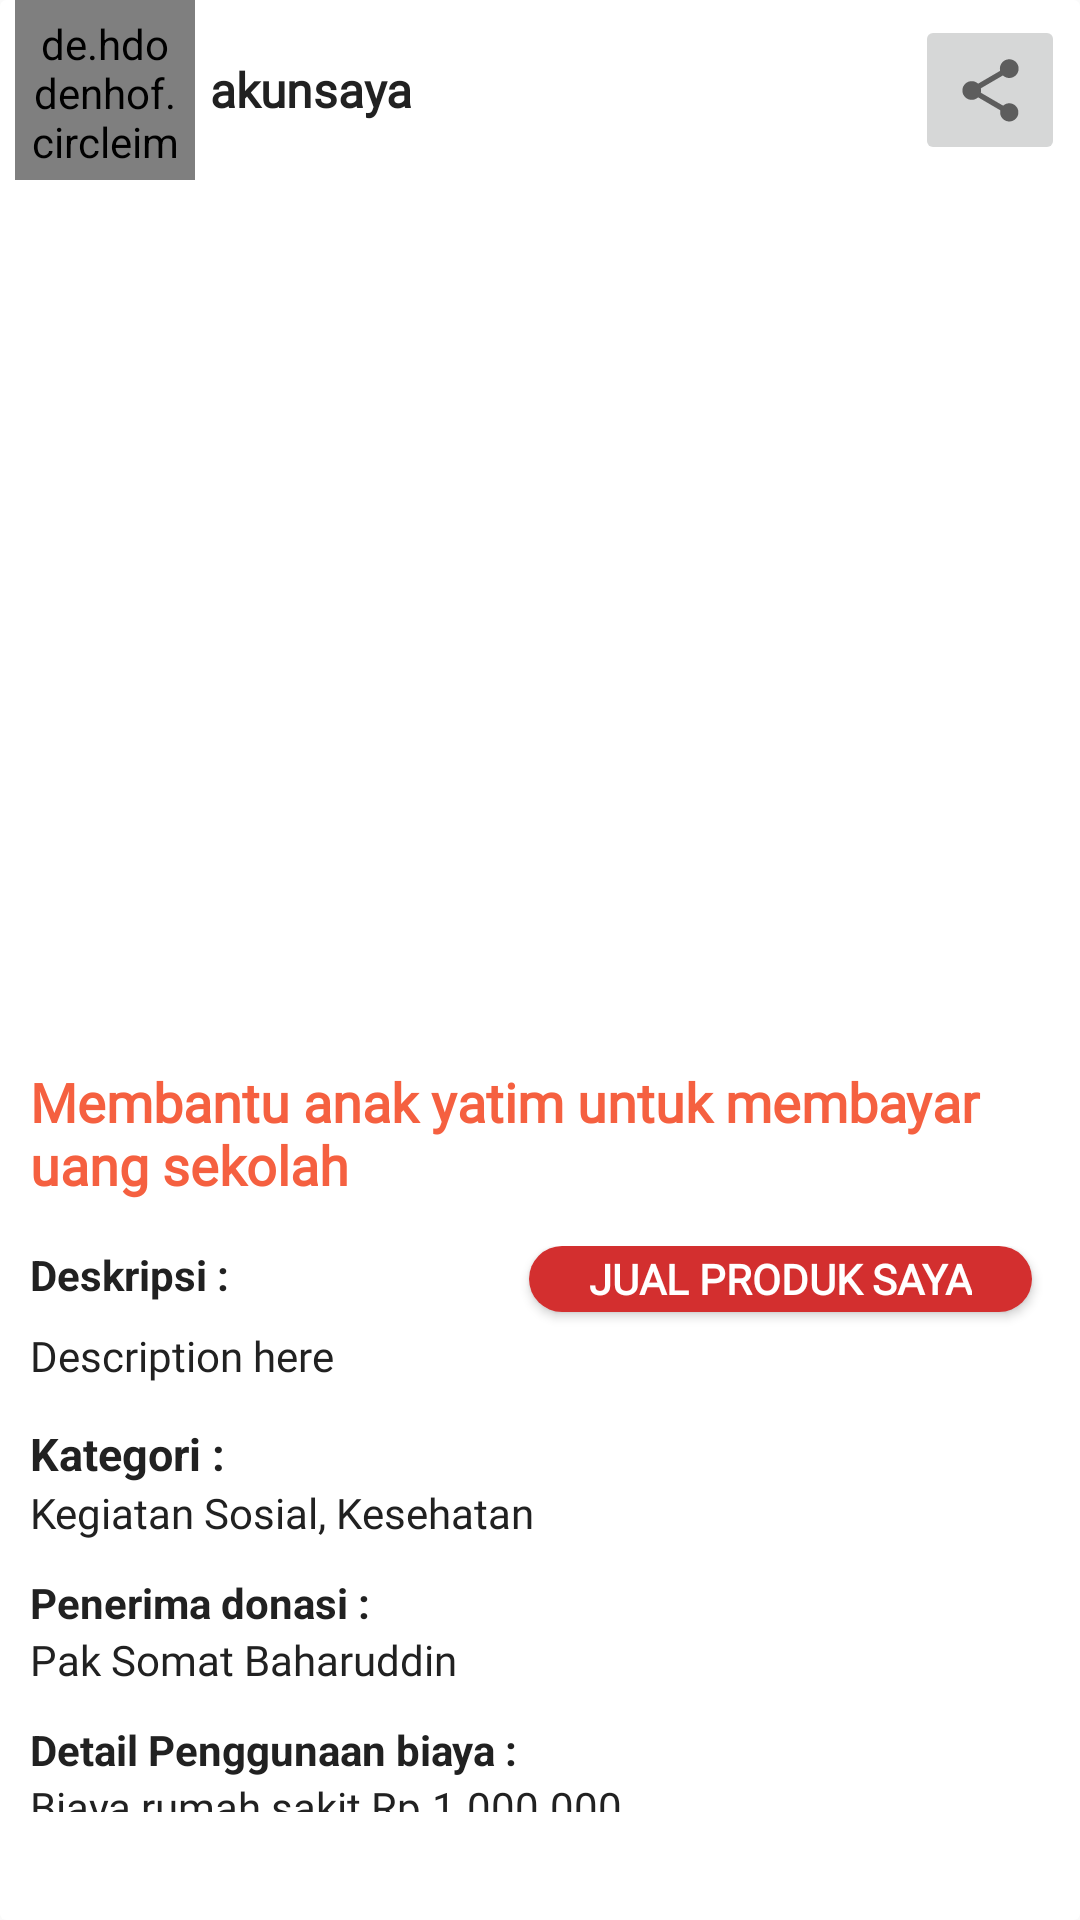

Named icons in this screenshot (1080 x 1920) and their bounding boxes, region(x1, y1, x2, y2):
share: region(927, 33, 1053, 147)
